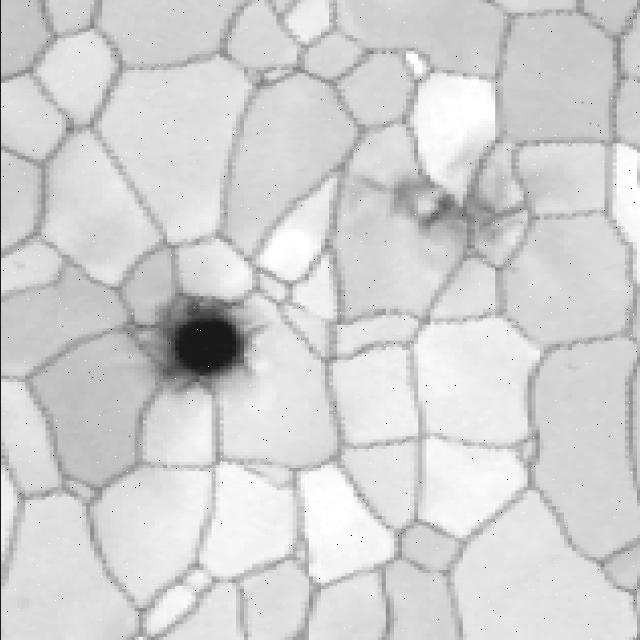good_void: (349, 131, 528, 259), (143, 285, 269, 395)
